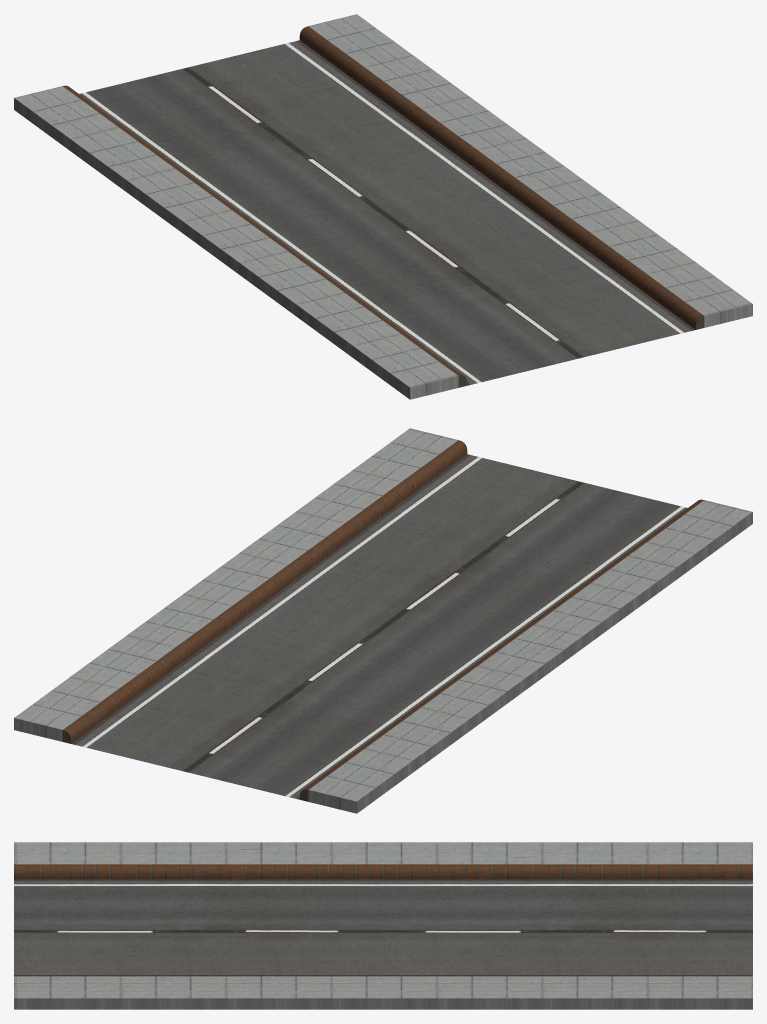
The model's file is road.glb.
3 renders of one model, top to bottom at view 1: azimuth 30°, elevation 25°; view 2: azimuth 150°, elevation 25°; view 3: azimuth 270°, elevation 25°, orthographic. The views are drawn at different scales.
Parts seen in each view (by area): view 1: Plane01.001; view 2: Plane01.001; view 3: Plane01.001.
Boxes of the visible parts, x1=… form: Plane01.001: x1=14, y1=14, x2=752, y2=399; Plane01.001: x1=14, y1=428, x2=752, y2=813; Plane01.001: x1=14, y1=842, x2=752, y2=1009.
Size of the model in its own units: 60 by 2 by 120.
Materials: 1 (1 with a texture image).
